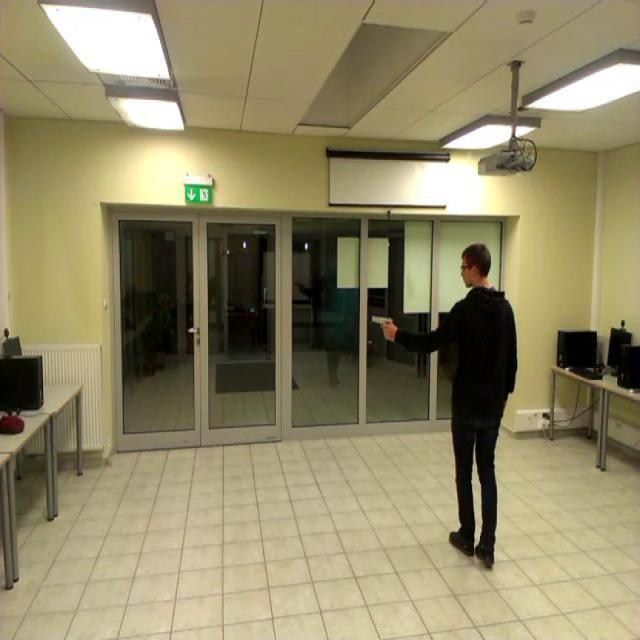pistol: (373, 314, 394, 337)
